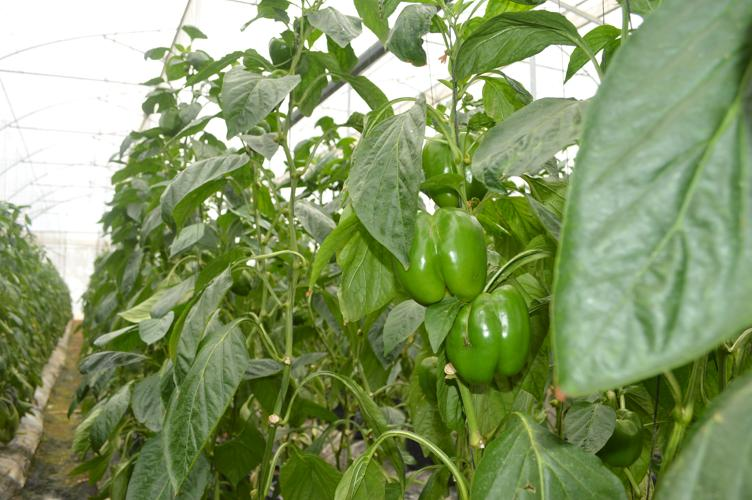BellPepper: (435, 287, 533, 382), (390, 207, 486, 303), (412, 130, 486, 208)
